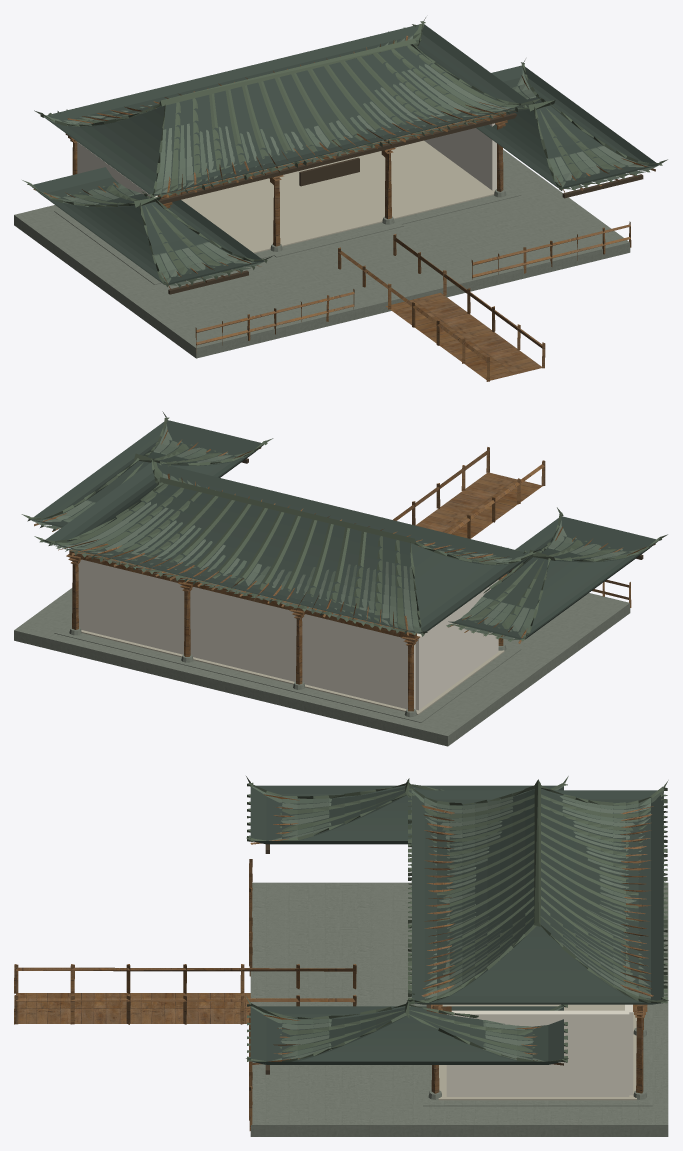
Rendered from public_models_places-low_ouxiangxie.glb.
The picture shows the model from 3 angles, top to bottom: view 1: azimuth 30°, elevation 25°; view 2: azimuth 150°, elevation 25°; view 3: azimuth 270°, elevation 25°; orthographic projection. The views are drawn at different scales.
Visible parts, largest first — view 1: ouxiangxie_roof, ouxiangxie_stone, ouxiangxie_paving, ouxiangxie_tiledark, ouxiangxie_wood, ouxiangxie_tilelight, ouxiangxie_tile, ouxiangxie_darkwood, ouxiangxie_plaster; view 2: ouxiangxie_roof, ouxiangxie_plaster, ouxiangxie_stone, ouxiangxie_tiledark, ouxiangxie_wood, ouxiangxie_tilelight, ouxiangxie_tile, ouxiangxie_paving; view 3: ouxiangxie_roof, ouxiangxie_stone, ouxiangxie_tiledark, ouxiangxie_wood, ouxiangxie_plaster, ouxiangxie_tile, ouxiangxie_tilelight, ouxiangxie_paving.
Boxes of the visible parts, box(x1,y1,x2,y2) form: ouxiangxie_roof: box(30, 24, 658, 284); ouxiangxie_stone: box(14, 149, 630, 358); ouxiangxie_paving: box(181, 140, 494, 253); ouxiangxie_tiledark: box(22, 17, 667, 287); ouxiangxie_wood: box(33, 35, 655, 381); ouxiangxie_tilelight: box(62, 35, 657, 285); ouxiangxie_tile: box(30, 38, 645, 285); ouxiangxie_darkwood: box(156, 113, 643, 294); ouxiangxie_plaster: box(77, 123, 496, 198); ouxiangxie_roof: box(31, 420, 656, 639); ouxiangxie_plaster: box(78, 559, 498, 710); ouxiangxie_stone: box(14, 588, 630, 746); ouxiangxie_tiledark: box(21, 411, 667, 641); ouxiangxie_wood: box(34, 429, 655, 711); ouxiangxie_tilelight: box(31, 424, 626, 639); ouxiangxie_tile: box(44, 440, 648, 640); ouxiangxie_paving: box(81, 630, 504, 714); ouxiangxie_roof: box(250, 785, 663, 1064); ouxiangxie_stone: box(250, 882, 668, 1136); ouxiangxie_tiledark: box(246, 776, 668, 1062); ouxiangxie_wood: box(14, 794, 653, 1130); ouxiangxie_plaster: box(446, 1004, 633, 1096); ouxiangxie_tile: box(250, 786, 663, 1057); ouxiangxie_tilelight: box(250, 796, 664, 1061); ouxiangxie_paving: box(438, 1004, 636, 1100).
Bounding box in the file's own units: 25.7 × 6.99 × 25.1.
Materials: 9 (2 with a texture image).
